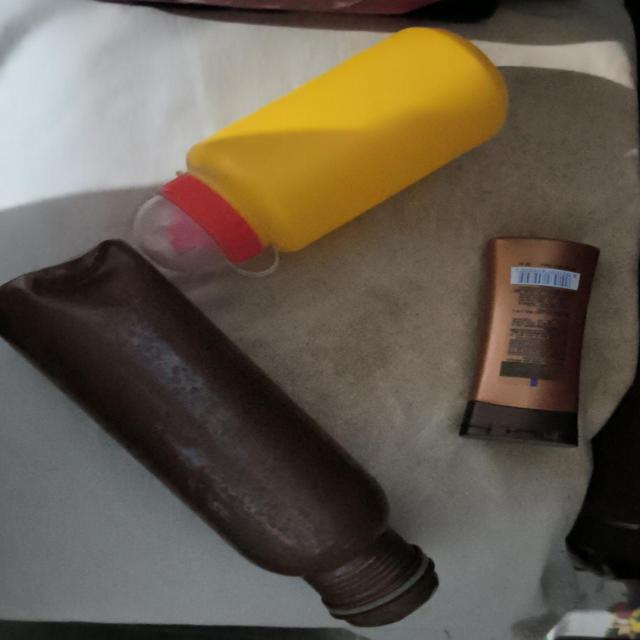dry: (9, 330, 457, 630), (168, 7, 422, 306), (461, 213, 613, 447)
